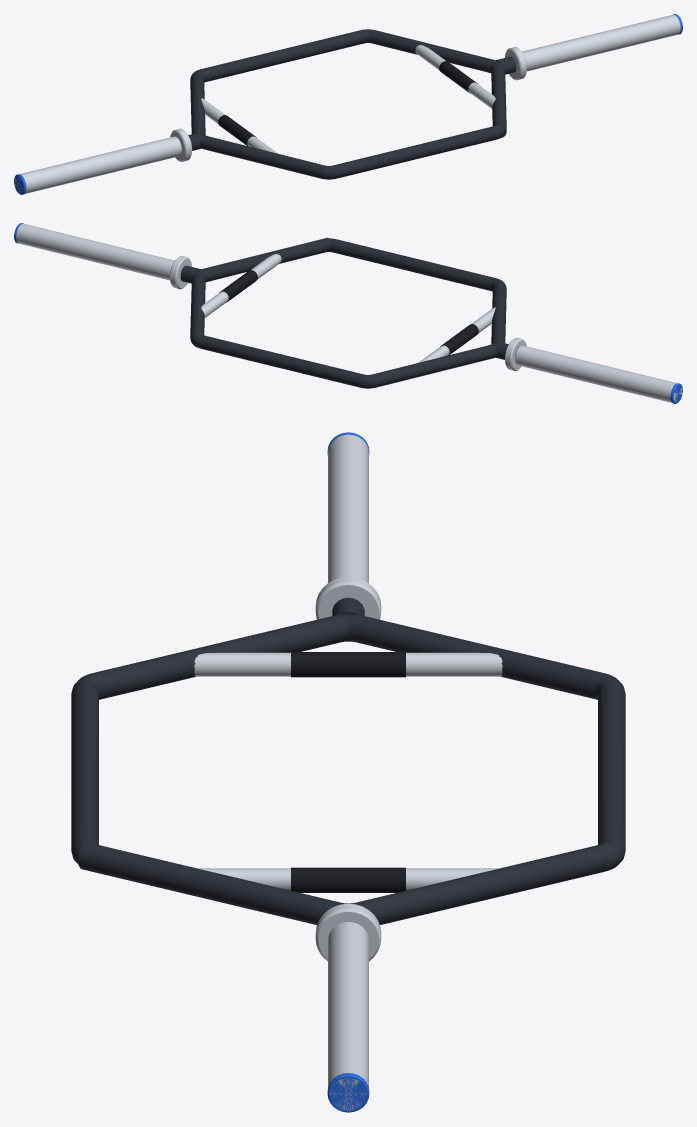
Rendered from prop-trap-bar.glb.
The picture shows the model from 3 angles, top to bottom: view 1: azimuth 30°, elevation 25°; view 2: azimuth 150°, elevation 25°; view 3: azimuth 270°, elevation 25°; orthographic projection. The views are drawn at different scales.
Parts seen in each view (by area): view 1: frame.frame, frame.chrome, frame.grip; view 2: frame.frame, frame.chrome, frame.grip; view 3: frame.frame, frame.chrome, frame.grip, frame.accent.
Boxes of the visible parts, x1,y1,x2,y2 form: frame.frame: (188, 29, 516, 179); frame.chrome: (14, 14, 680, 193); frame.grip: (218, 61, 477, 145); frame.frame: (180, 237, 508, 388); frame.chrome: (16, 223, 682, 402); frame.grip: (219, 270, 478, 354); frame.frame: (71, 597, 625, 924); frame.chrome: (194, 434, 502, 1110); frame.grip: (291, 652, 405, 892); frame.accent: (327, 432, 369, 1112).
Size of the model in its own units: 1.85 by 0.08 by 0.674.
